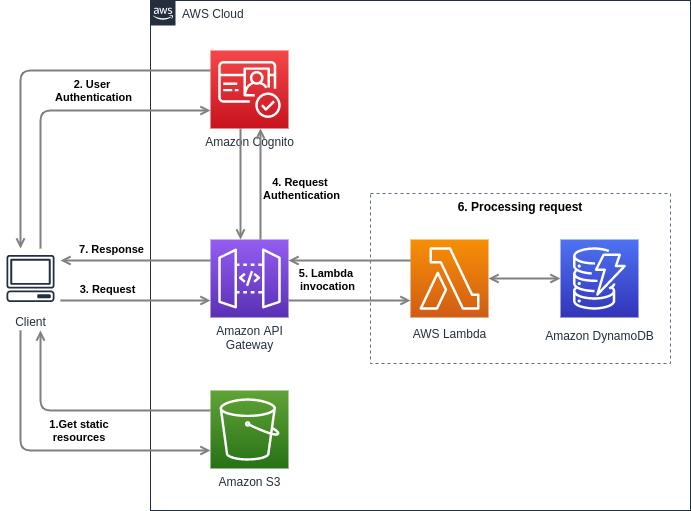API-Gateway: (202, 231, 294, 323)
Cognito: (208, 47, 296, 130)
Dynamo DB: (555, 234, 645, 324)
Lambda: (405, 232, 494, 324)
S3: (203, 380, 295, 471)
Web Clients: (6, 247, 59, 309)
aws: (146, 0, 182, 29)
